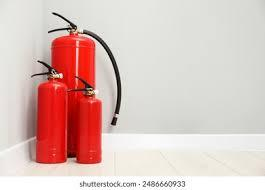wall-mounted: (48, 12, 122, 158), (30, 59, 70, 165), (69, 75, 104, 165)
